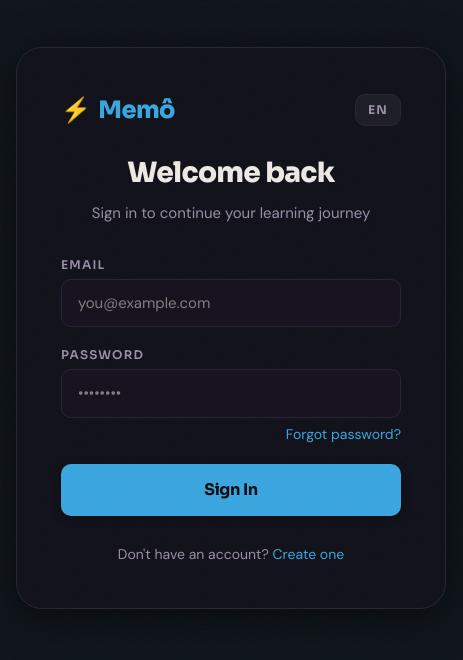
Test: LoginPage › shows error message on login failure
The width and height of the screenshot is (463, 660).
Type "test@example.com" into the field labelled "Email" at (231, 303), box top-left (61, 279), bottom-right (401, 327)
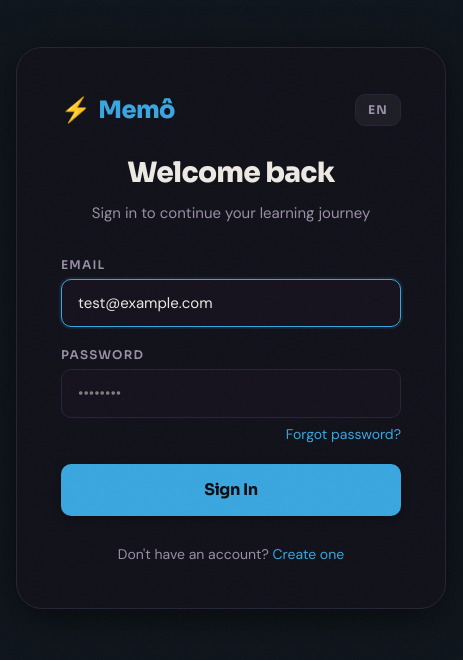
Type "wrong" into the password field labelled "Password" at (231, 394), box top-left (61, 369), bottom-right (401, 418)
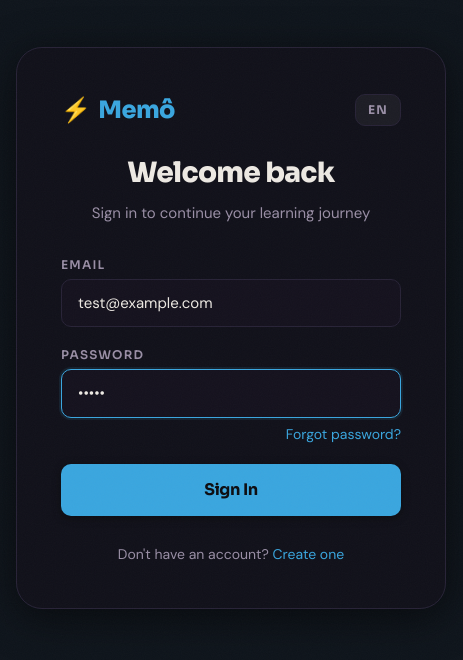
Click the button "Sign In" at (231, 490), box top-left (61, 464), bottom-right (401, 516)
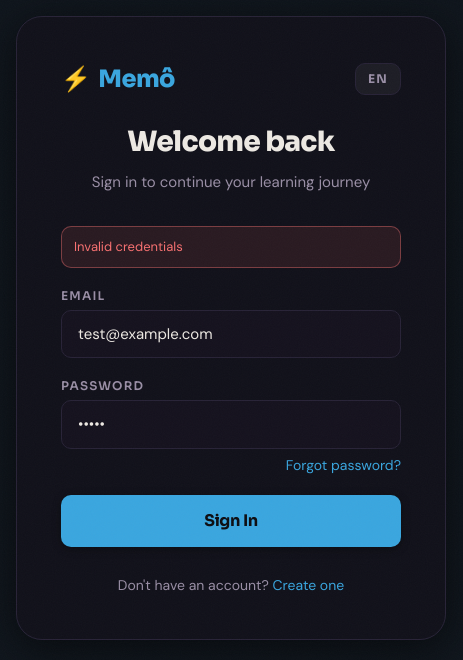
Expected: the message reads "Invalid credentials", top-left (74, 238), bottom-right (183, 255)
